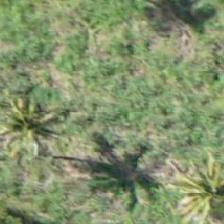coconut_tree: (0, 89, 72, 179), (160, 165, 223, 223)
